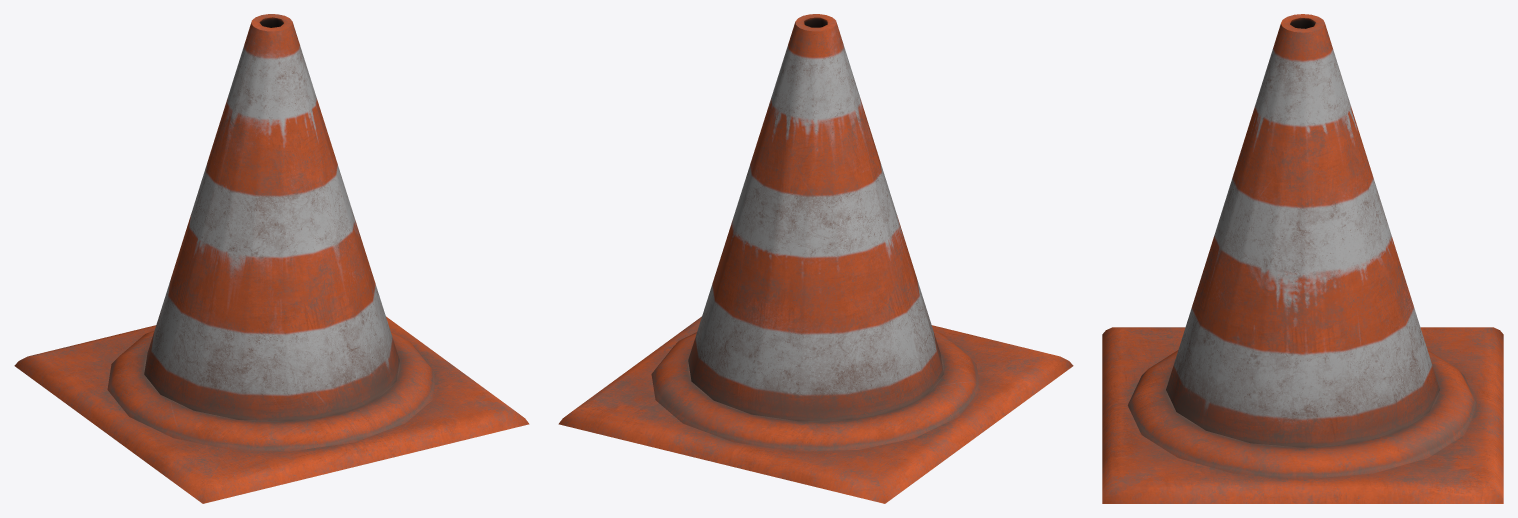
Rendered from Conee.fbx.
3 views of the same model, side by side, from view 1: azimuth 30°, elevation 25°; view 2: azimuth 150°, elevation 25°; view 3: azimuth 270°, elevation 25° (orthographic). The views are drawn at different scales.
Visible parts, largest first — view 1: Cone_Low.004; view 2: Cone_Low.004; view 3: Cone_Low.004.
Boxes of the visible parts, x1,y1,x2,y2 form: Cone_Low.004: (14, 14, 529, 503); Cone_Low.004: (558, 14, 1073, 503); Cone_Low.004: (1102, 14, 1503, 503).
Bounding box in the file's own units: 33.35 × 36.31 × 33.35.
